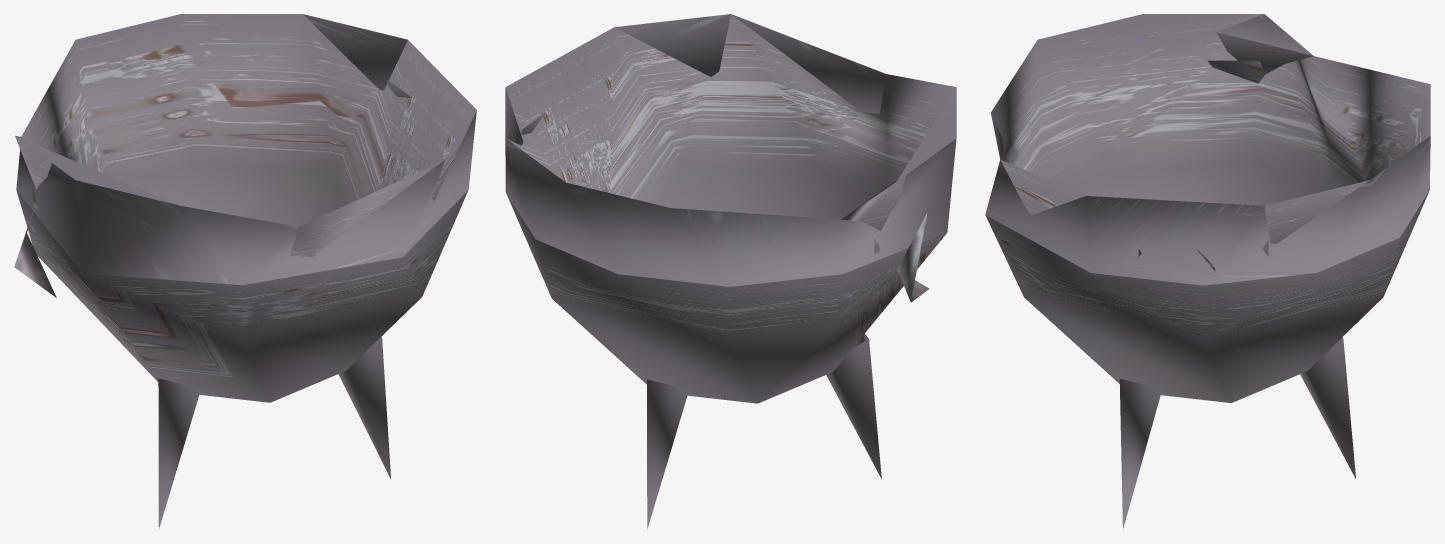
Rendered from Cauldron.low.gltf.
3 renders of one model, left to right at view 1: azimuth 30°, elevation 25°; view 2: azimuth 150°, elevation 25°; view 3: azimuth 270°, elevation 25°, orthographic.
Visible parts, largest first — view 1: Cauldron; view 2: Cauldron; view 3: Cauldron.
Part boxes in pixels (x1,y1,x2,y2): Cauldron: (14, 14, 476, 528); Cauldron: (505, 14, 956, 528); Cauldron: (985, 14, 1430, 528).
Size of the model in its own units: 0.9677 by 0.8132 by 0.8947.
1 material, 1 textured.
